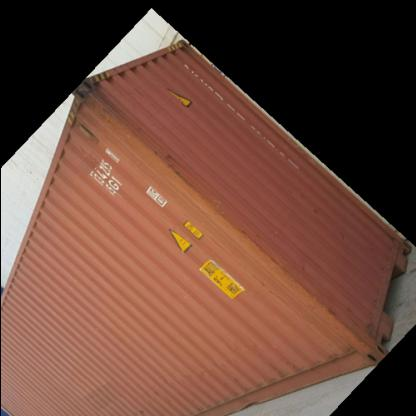Damage: (177, 185, 291, 283), (73, 86, 184, 185), (276, 280, 358, 344)
